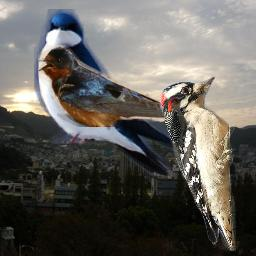Swallow: (34, 9, 186, 176), (38, 45, 218, 127)
Woodpecker: (159, 77, 236, 251), (164, 95, 190, 154)
